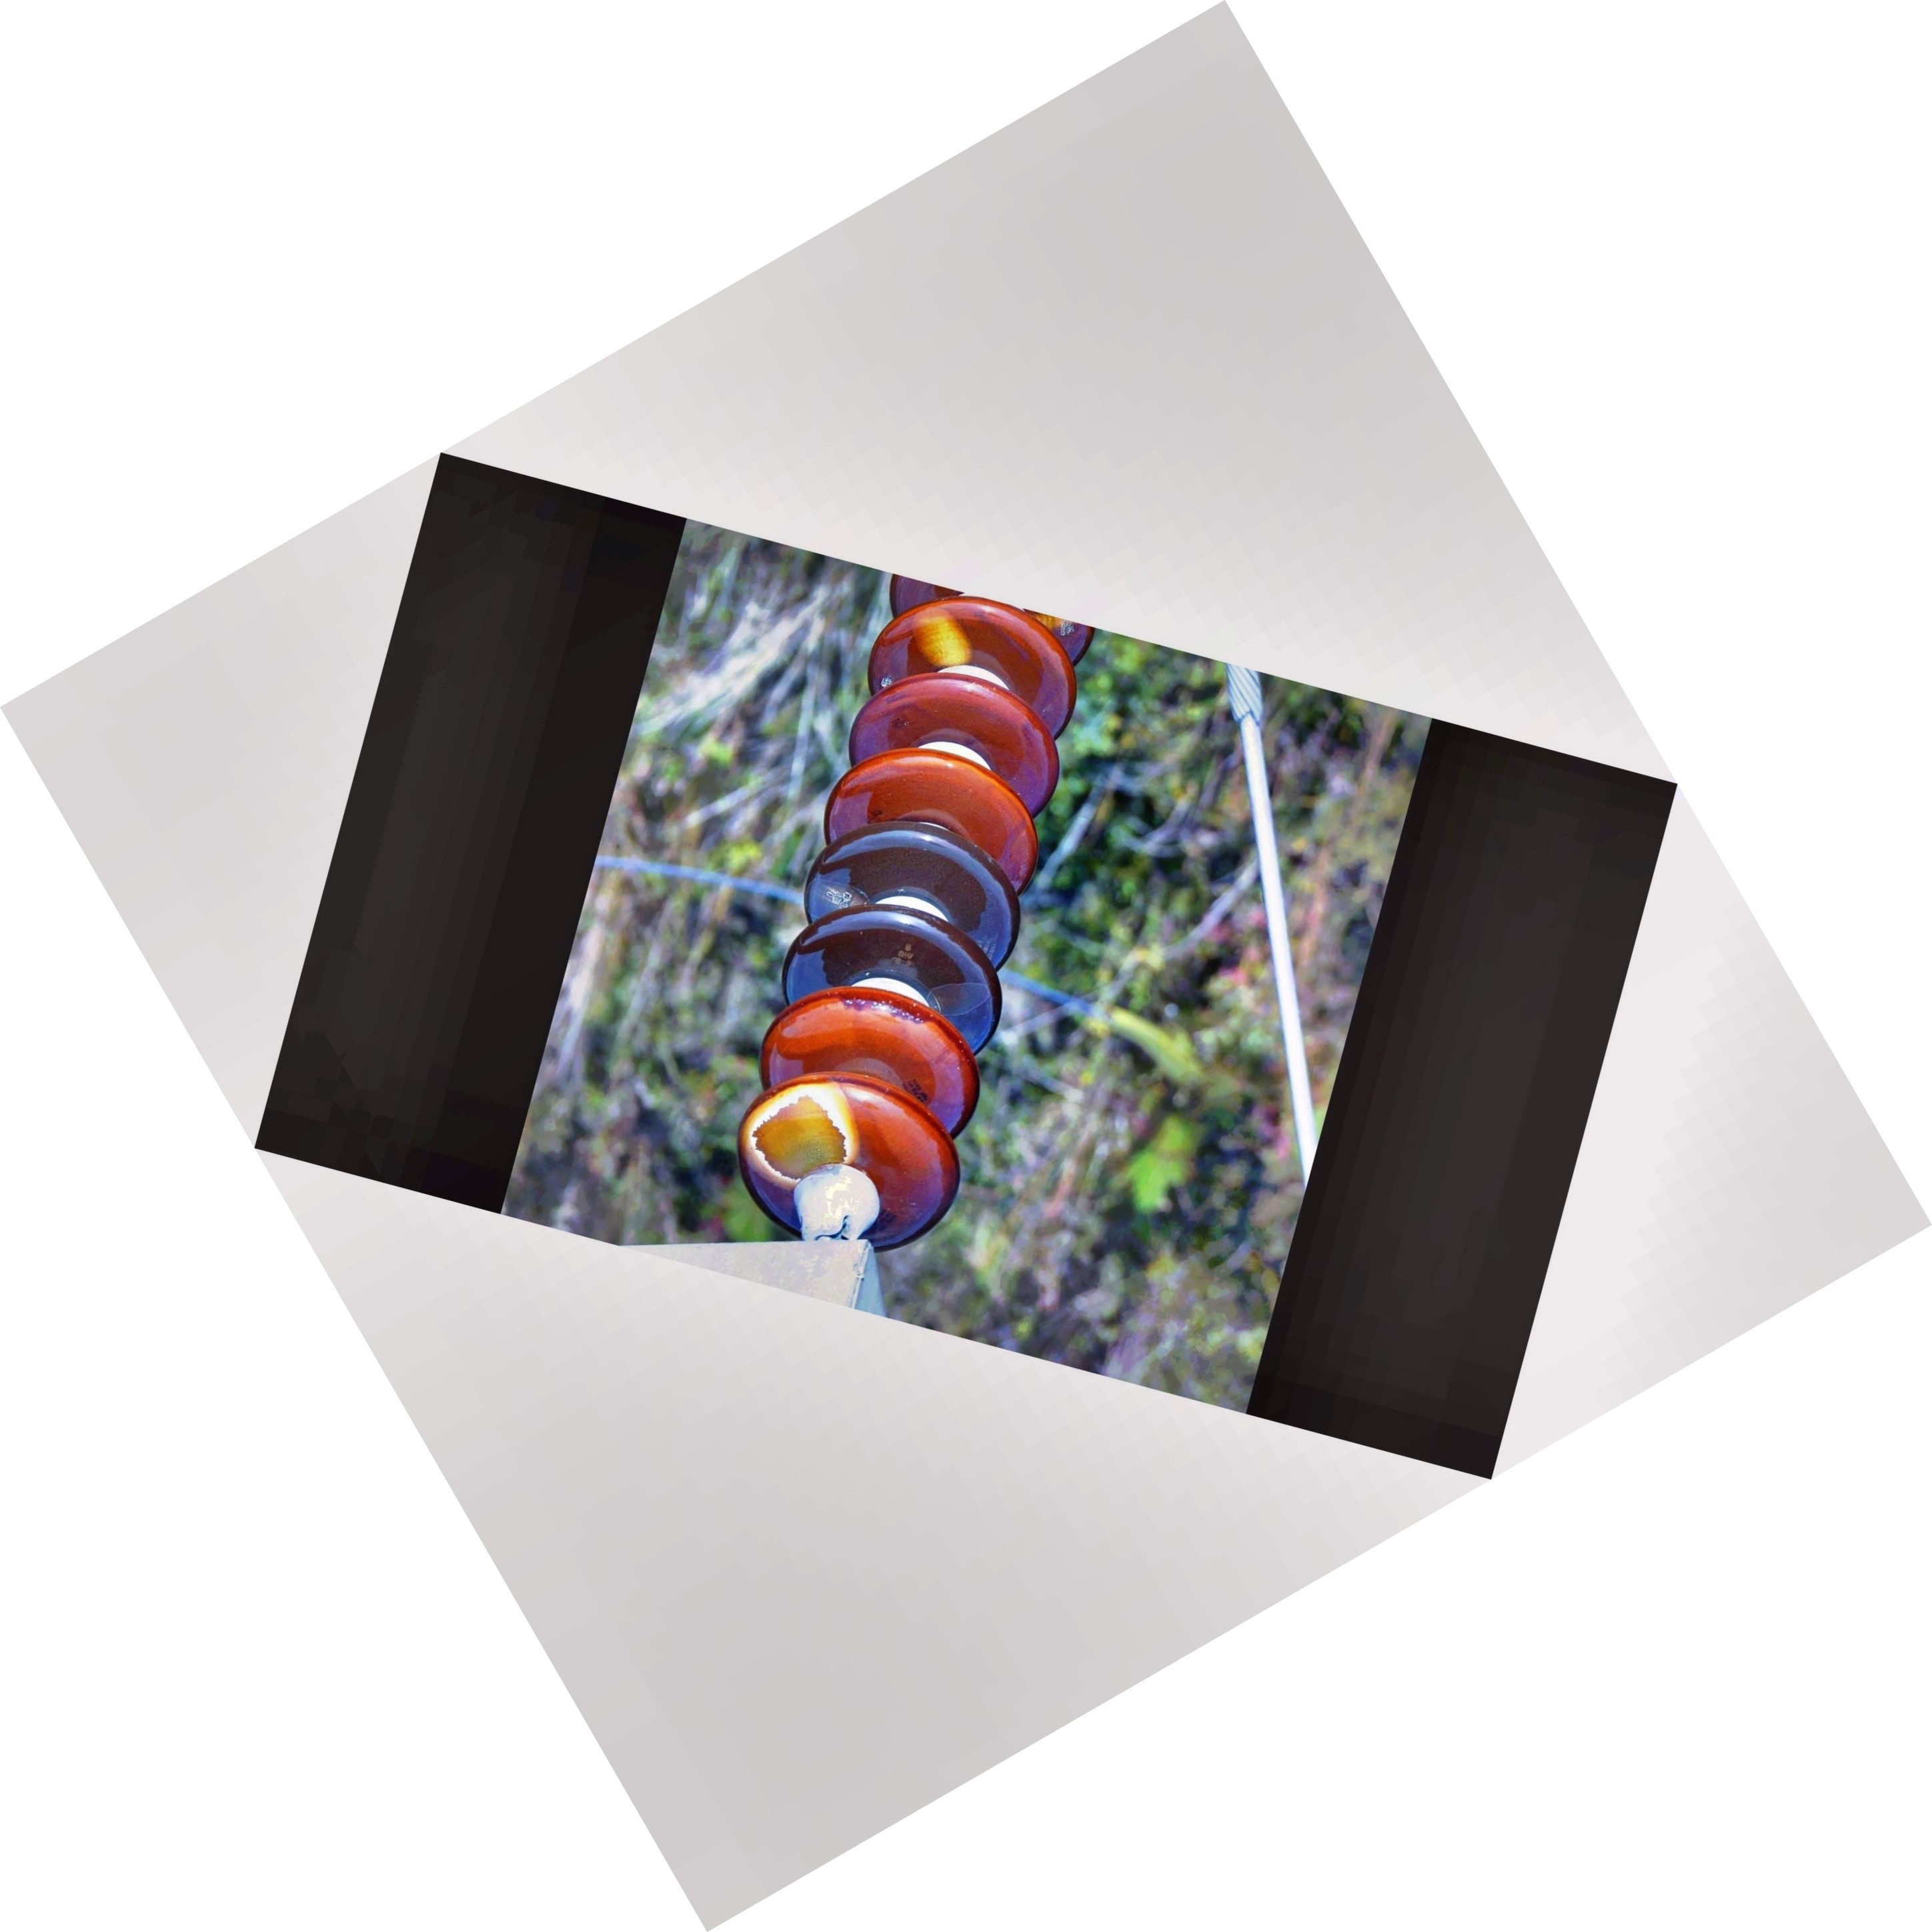Insulator flashover: (717, 1060, 975, 1260)
